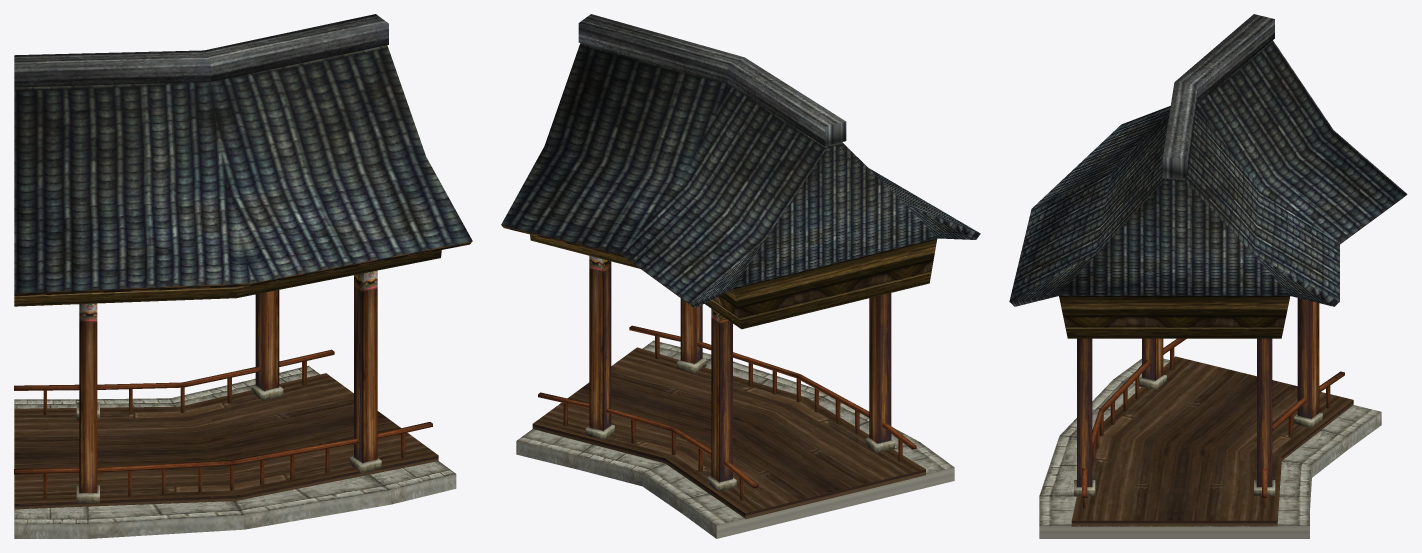
Rendered from b-general_external03.fbx.
3 views of the same model, side by side, from view 1: azimuth 30°, elevation 25°; view 2: azimuth 150°, elevation 25°; view 3: azimuth 270°, elevation 25° (orthographic). The views are drawn at different scales.
Visible parts, largest first — view 1: B-general_external01; view 2: B-general_external01; view 3: B-general_external01.
Boxes of the visible parts, <box> form: B-general_external01: <box>14,14,472,538</box>; B-general_external01: <box>501,14,980,538</box>; B-general_external01: <box>1009,14,1407,538</box>.
Size of the model in its own units: 18.6 by 18.59 by 17.65.
